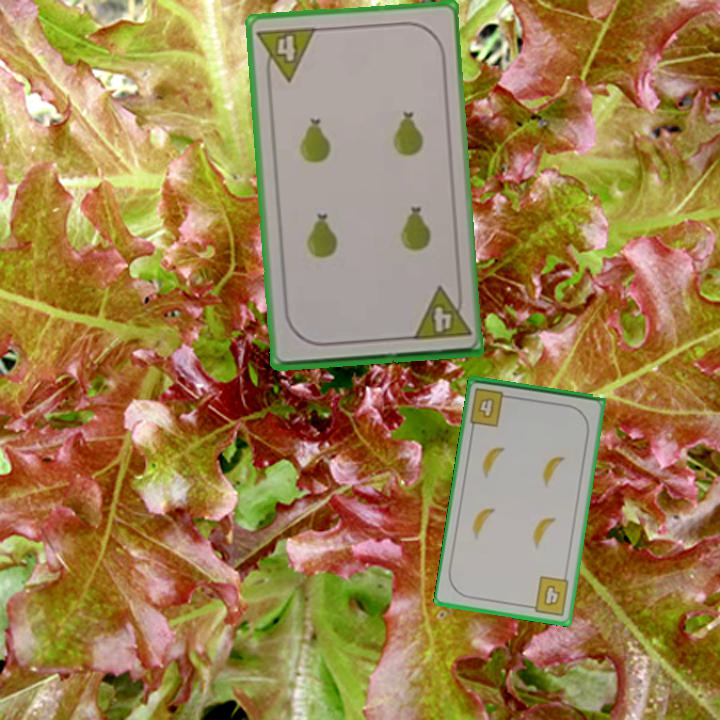4b: (466, 384, 515, 429), (524, 573, 572, 618)
4p: (254, 23, 319, 85), (408, 283, 473, 343)
